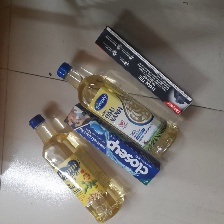CloseUp Tuyet: (63, 103, 162, 186)
Colgate Than: (93, 26, 193, 117)
Happy Soya: (26, 113, 126, 222)
Simply: (55, 62, 179, 158)
